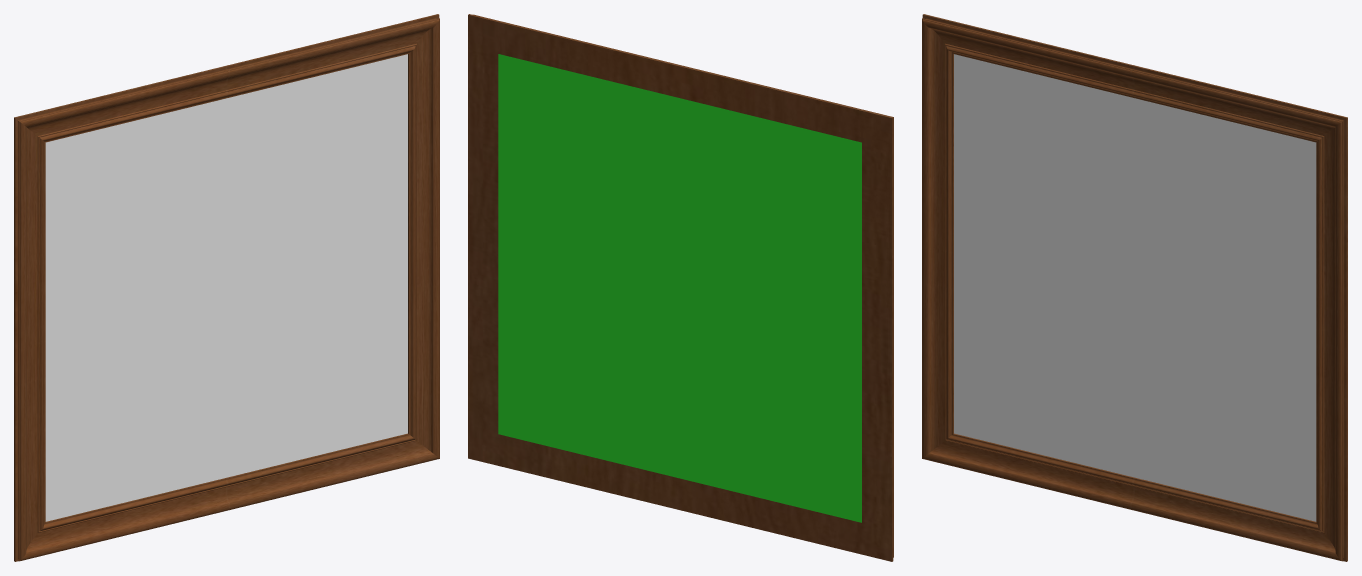
File: picture-frame.obj
3 renders of one model, left to right at view 1: azimuth 30°, elevation 25°; view 2: azimuth 150°, elevation 25°; view 3: azimuth 330°, elevation 25°, orthographic.
Visible parts, largest first — view 1: Mesh1 Model; view 2: Mesh1 Model; view 3: Mesh1 Model.
Part boxes in pixels (x1,y1,x2,y2): Mesh1 Model: [14, 14, 439, 561]; Mesh1 Model: [468, 14, 893, 561]; Mesh1 Model: [922, 14, 1347, 561].
Bounding box in the file's own units: 1.42 × 1.42 × 0.0242.
3 materials, 1 textured.
